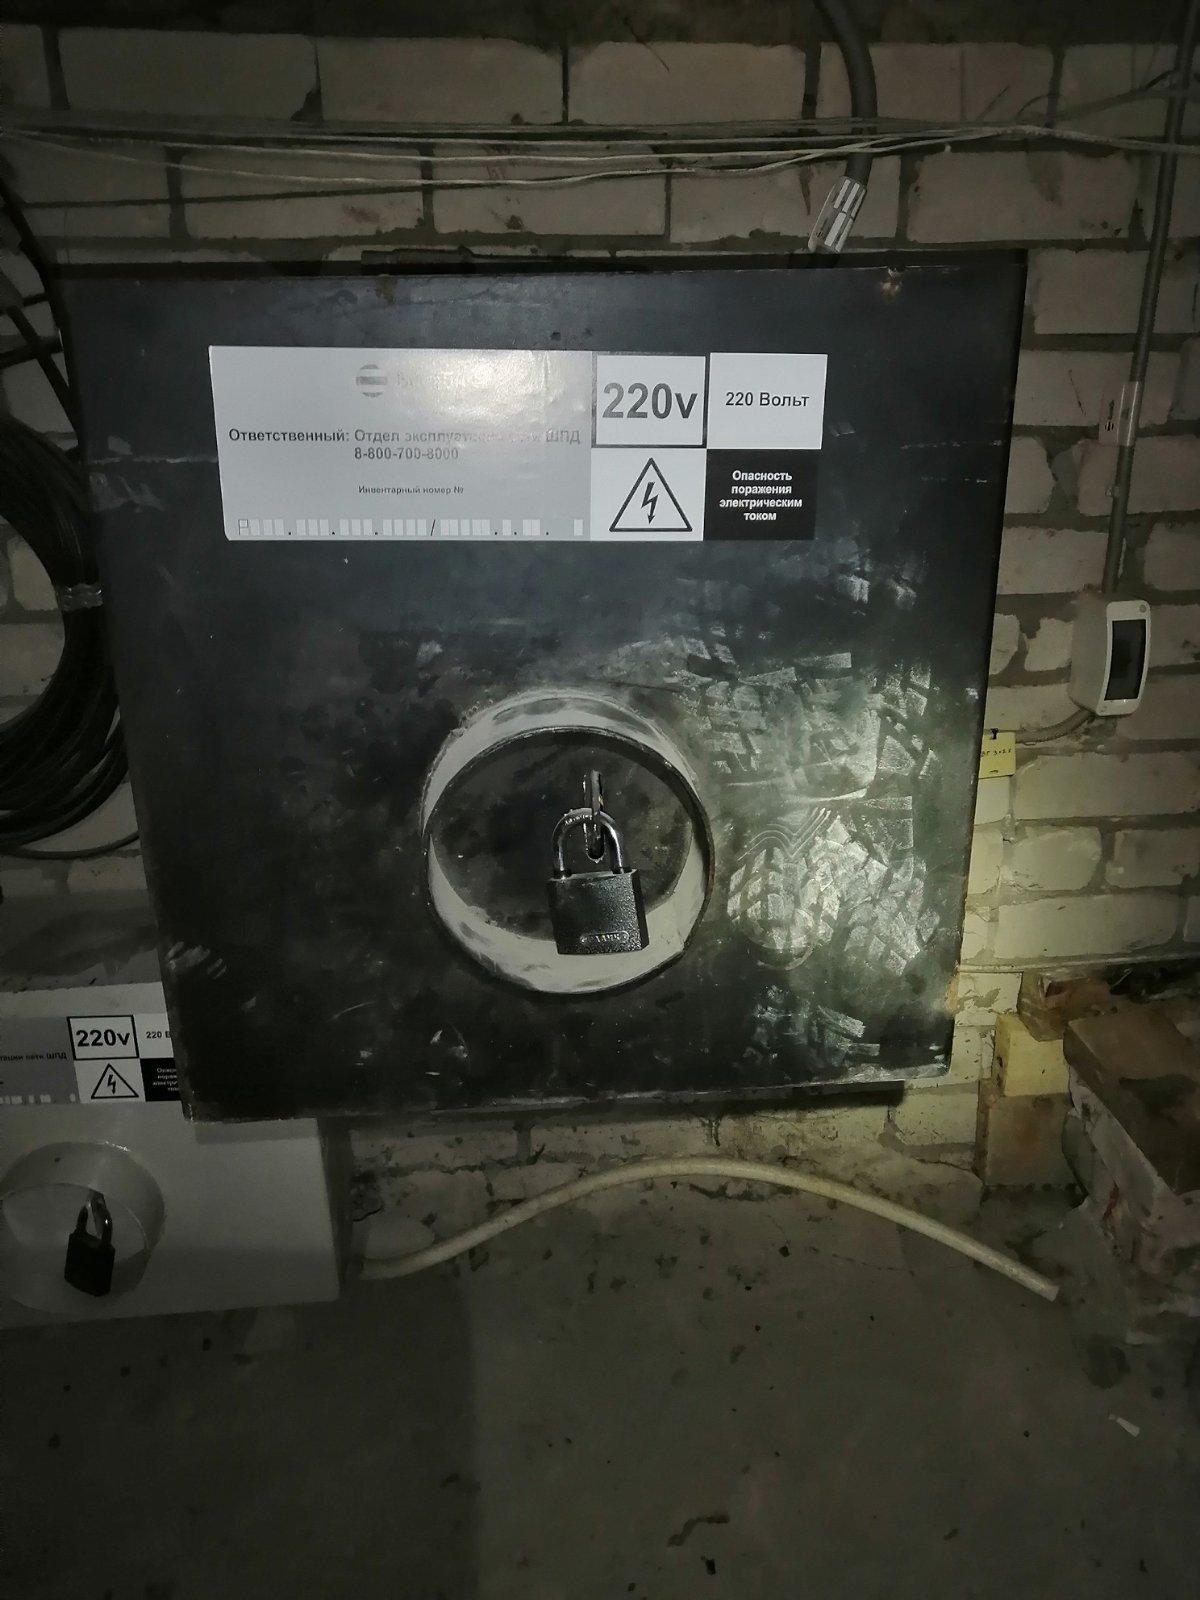shta-3: (3, 879, 368, 1329)
shta-9: (45, 231, 1047, 1133)
